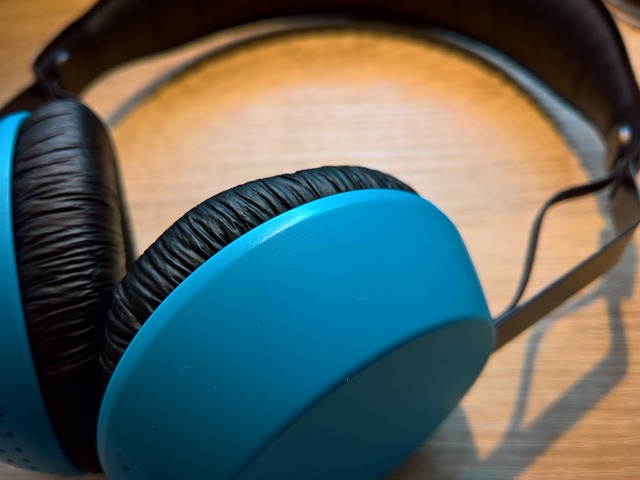headphones: (1, 1, 640, 480)
